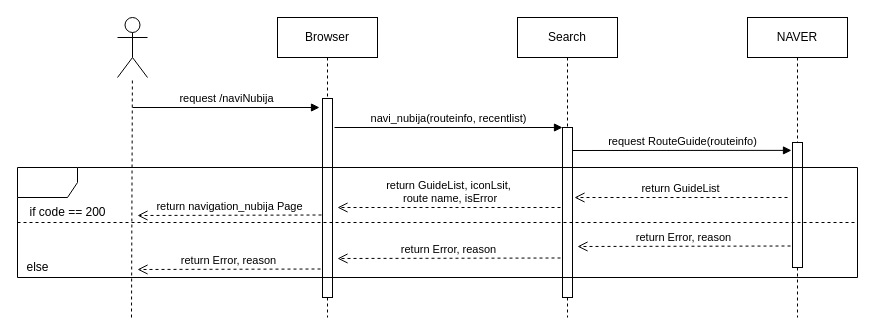
Image size: 876x336. Some labels were removed from this diagram. Here are the shapes that lost their labels. From the top down, the box of each, then its label:
(116, 16, 148, 78): Actor
(16, 166, 858, 278): Alt
